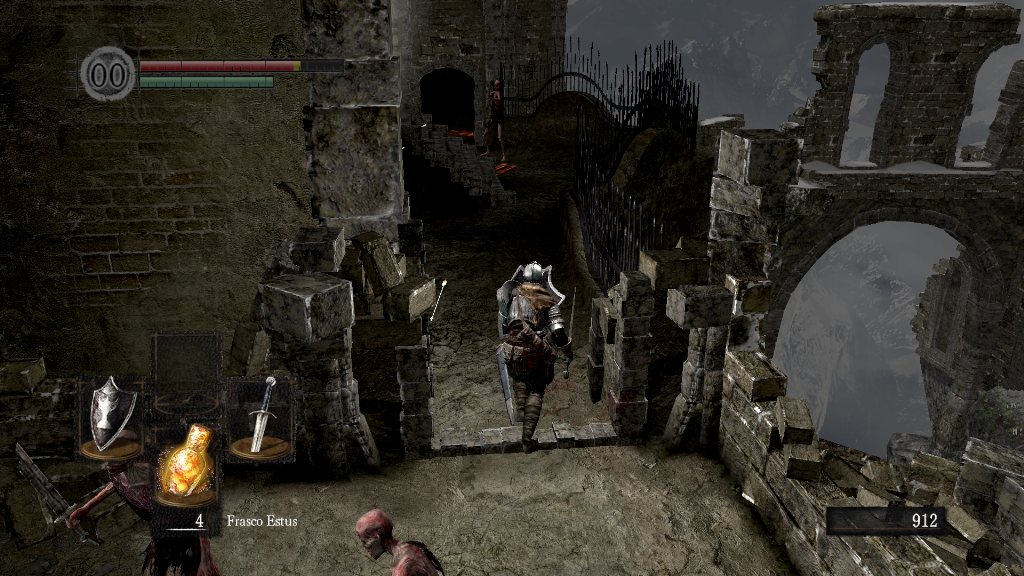health: (138, 58, 343, 71)
hollow: (477, 74, 510, 158)
humanity: (80, 45, 136, 102)
player: (493, 259, 579, 453)
souls: (825, 506, 945, 536)
stamina: (138, 74, 274, 88)
